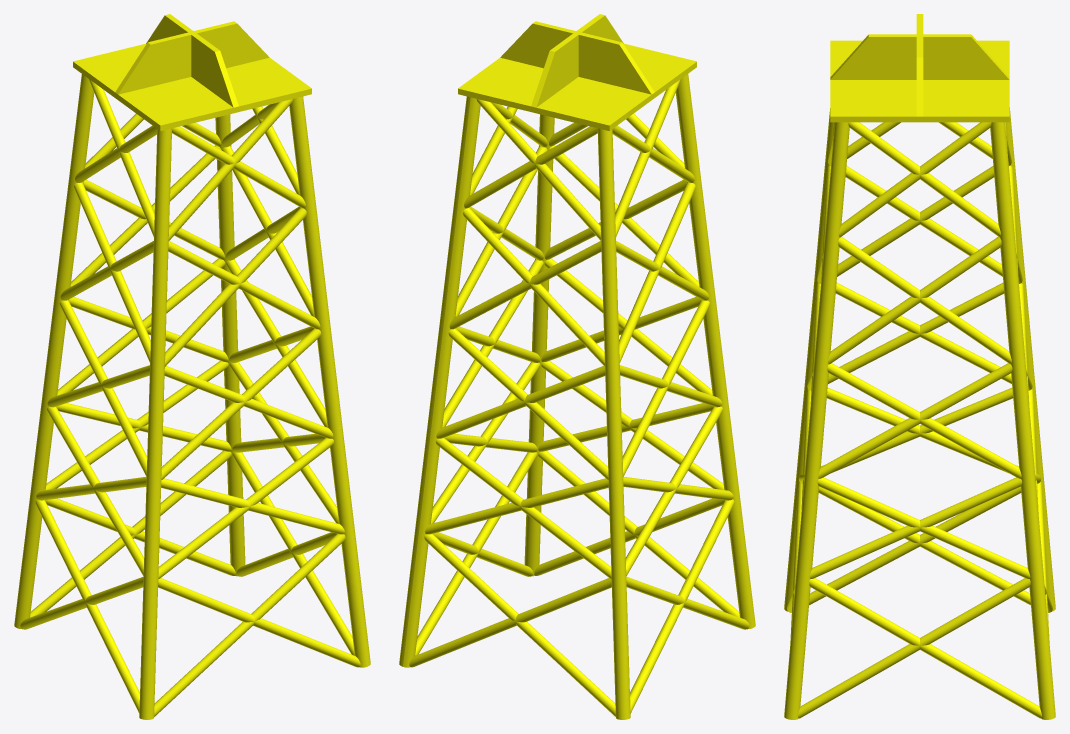
File: Jacket_no_aero.dae
The picture shows the model from 3 angles, left to right: view 1: azimuth 30°, elevation 25°; view 2: azimuth 150°, elevation 25°; view 3: azimuth 270°, elevation 25°; orthographic projection. The views are drawn at different scales.
Visible parts, largest first — view 1: acf7f5cc-2c02-457a-92b0-1c048393f5ba, a48183b4-1a09-4af5-9ea4-91815528b357, ad593aa4-80a3-4592-a8cb-22095cea5786, b353c5a0-11d7-487b-a210-f2d14d404b2d, a7ab26a2-df17-4efc-a7a9-6f4cafa8dd01, a9f2350c-2f4b-4f77-a1f2-dd73bf599f66, a3d1f0d6-6bd7-4b7d-aa2e-d68fdbc16986, a7a01ed6-2064-4d72-ac1c-33002eb68b65, cfd0c0a5-5938-41cd-865d-2e8a81ca54c1, a9612443-a305-4315-ac35-a7c59e70e8cb, abf3fdd8-7933-4a0a-b14c-c69fad3af952, ce5d2f71-b3d9-44bd-8898-ef0cd83c6b3c (+3 smaller); view 2: cfd0c0a5-5938-41cd-865d-2e8a81ca54c1, a9612443-a305-4315-ac35-a7c59e70e8cb, a3d1f0d6-6bd7-4b7d-aa2e-d68fdbc16986, ec1974d0-6298-4f98-a7ae-a13a729cf193, a7ab26a2-df17-4efc-a7a9-6f4cafa8dd01, a7a01ed6-2064-4d72-ac1c-33002eb68b65, ad593aa4-80a3-4592-a8cb-22095cea5786, a9f2350c-2f4b-4f77-a1f2-dd73bf599f66, acf7f5cc-2c02-457a-92b0-1c048393f5ba, a48183b4-1a09-4af5-9ea4-91815528b357, ce5d2f71-b3d9-44bd-8898-ef0cd83c6b3c, abf3fdd8-7933-4a0a-b14c-c69fad3af952 (+3 smaller); view 3: abf3fdd8-7933-4a0a-b14c-c69fad3af952, ce5d2f71-b3d9-44bd-8898-ef0cd83c6b3c, ec1974d0-6298-4f98-a7ae-a13a729cf193, b353c5a0-11d7-487b-a210-f2d14d404b2d, a7ab26a2-df17-4efc-a7a9-6f4cafa8dd01, a9f2350c-2f4b-4f77-a1f2-dd73bf599f66, a7a01ed6-2064-4d72-ac1c-33002eb68b65, a3735d62-01a9-4778-ac46-89d6be471d0b, a3d1f0d6-6bd7-4b7d-aa2e-d68fdbc16986, ad593aa4-80a3-4592-a8cb-22095cea5786, a9612443-a305-4315-ac35-a7c59e70e8cb, a48183b4-1a09-4af5-9ea4-91815528b357 (+3 smaller).
Boxes of the visible parts, x1=… form: acf7f5cc-2c02-457a-92b0-1c048393f5ba: x1=154, y1=99, x2=345, y2=716; a48183b4-1a09-4af5-9ea4-91815528b357: x1=158, y1=126, x2=360, y2=667; ad593aa4-80a3-4592-a8cb-22095cea5786: x1=139, y1=128, x2=171, y2=719; b353c5a0-11d7-487b-a210-f2d14d404b2d: x1=289, y1=96, x2=370, y2=667; a7ab26a2-df17-4efc-a7a9-6f4cafa8dd01: x1=73, y1=43, x2=311, y2=130; a9f2350c-2f4b-4f77-a1f2-dd73bf599f66: x1=35, y1=79, x2=154, y2=713; a3d1f0d6-6bd7-4b7d-aa2e-d68fdbc16986: x1=14, y1=74, x2=94, y2=628; a7a01ed6-2064-4d72-ac1c-33002eb68b65: x1=20, y1=125, x2=157, y2=629; cfd0c0a5-5938-41cd-865d-2e8a81ca54c1: x1=30, y1=113, x2=231, y2=617; a9612443-a305-4315-ac35-a7c59e70e8cb: x1=45, y1=122, x2=235, y2=575; abf3fdd8-7933-4a0a-b14c-c69fad3af952: x1=226, y1=106, x2=354, y2=655; ce5d2f71-b3d9-44bd-8898-ef0cd83c6b3c: x1=222, y1=102, x2=338, y2=576; cfd0c0a5-5938-41cd-865d-2e8a81ca54c1: x1=424, y1=99, x2=615, y2=716; a9612443-a305-4315-ac35-a7c59e70e8cb: x1=409, y1=126, x2=611, y2=667; a3d1f0d6-6bd7-4b7d-aa2e-d68fdbc16986: x1=597, y1=128, x2=630, y2=719; ec1974d0-6298-4f98-a7ae-a13a729cf193: x1=399, y1=96, x2=480, y2=667; a7ab26a2-df17-4efc-a7a9-6f4cafa8dd01: x1=458, y1=43, x2=696, y2=130; a7a01ed6-2064-4d72-ac1c-33002eb68b65: x1=615, y1=79, x2=734, y2=713; ad593aa4-80a3-4592-a8cb-22095cea5786: x1=675, y1=74, x2=755, y2=628; a9f2350c-2f4b-4f77-a1f2-dd73bf599f66: x1=612, y1=125, x2=749, y2=629; acf7f5cc-2c02-457a-92b0-1c048393f5ba: x1=538, y1=113, x2=739, y2=617; a48183b4-1a09-4af5-9ea4-91815528b357: x1=534, y1=122, x2=724, y2=575; ce5d2f71-b3d9-44bd-8898-ef0cd83c6b3c: x1=415, y1=106, x2=543, y2=655; abf3fdd8-7933-4a0a-b14c-c69fad3af952: x1=431, y1=102, x2=547, y2=576; abf3fdd8-7933-4a0a-b14c-c69fad3af952: x1=797, y1=122, x2=1030, y2=718; ce5d2f71-b3d9-44bd-8898-ef0cd83c6b3c: x1=809, y1=122, x2=1042, y2=718; ec1974d0-6298-4f98-a7ae-a13a729cf193: x1=990, y1=122, x2=1055, y2=719; b353c5a0-11d7-487b-a210-f2d14d404b2d: x1=784, y1=122, x2=849, y2=719; a7ab26a2-df17-4efc-a7a9-6f4cafa8dd01: x1=830, y1=40, x2=1009, y2=122; a9f2350c-2f4b-4f77-a1f2-dd73bf599f66: x1=809, y1=122, x2=1021, y2=605; a7a01ed6-2064-4d72-ac1c-33002eb68b65: x1=818, y1=122, x2=1030, y2=605; a3735d62-01a9-4778-ac46-89d6be471d0b: x1=830, y1=34, x2=1009, y2=79; a3d1f0d6-6bd7-4b7d-aa2e-d68fdbc16986: x1=1006, y1=107, x2=1055, y2=611; ad593aa4-80a3-4592-a8cb-22095cea5786: x1=784, y1=108, x2=833, y2=611; a9612443-a305-4315-ac35-a7c59e70e8cb: x1=1005, y1=122, x2=1049, y2=641; a48183b4-1a09-4af5-9ea4-91815528b357: x1=790, y1=122, x2=834, y2=641.
Size of the model in its own units: 8.48 by 8.48 by 21.6.
